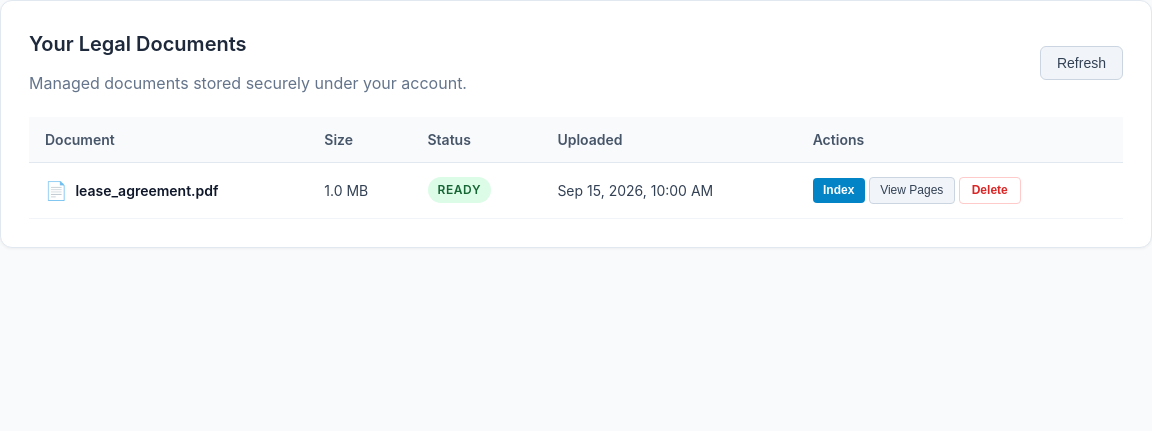
Test case: DocumentList Component › renders view pages button and expands extracted pages panel on click
The image size is (1152, 431).
Click the button with test id "view-pages-btn-doc-uuid-1234": [912, 190] box [869,177,955,204]
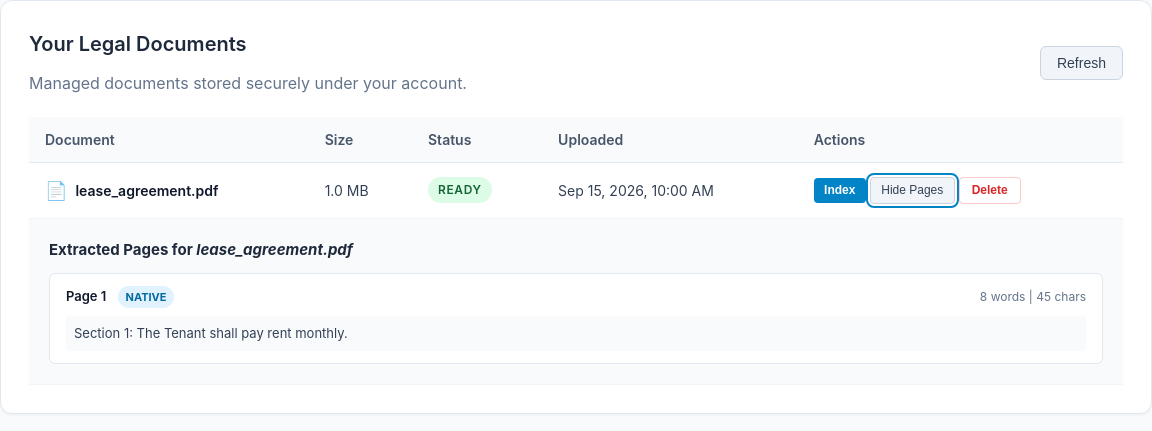
Expected: the row with test id "pages-panel-doc-uuid-1234" is shown, [29,218,1123,385]
Expected: the text "Page 1" is shown, [66,287,106,307]
Expected: the text with test id "page-method-1" reads "NATIVE", [126,290,166,304]
# Clicking again collapses the panel
Click the button with test id "view-pages-btn-doc-uuid-1234": [912, 190] box [870,177,955,204]
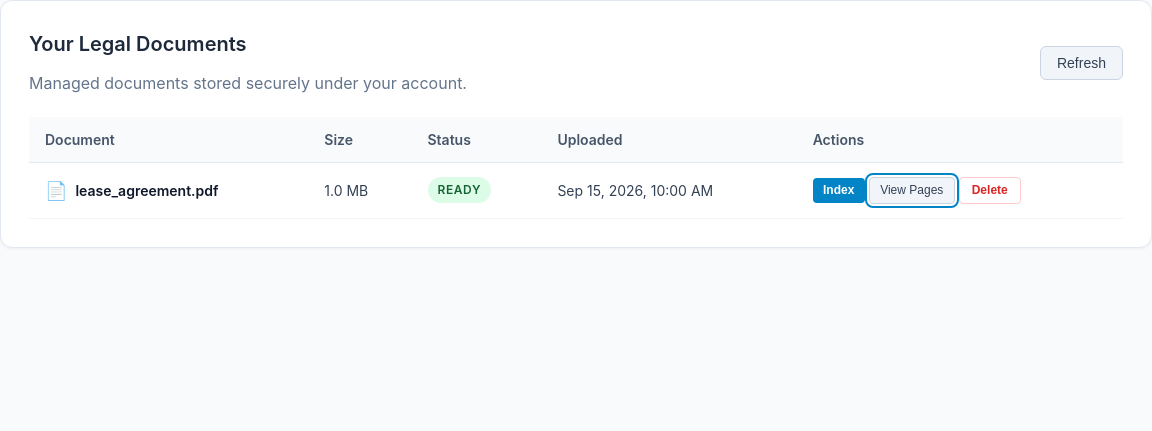
Expected: the row with test id "pages-panel-doc-uuid-1234" is gone
